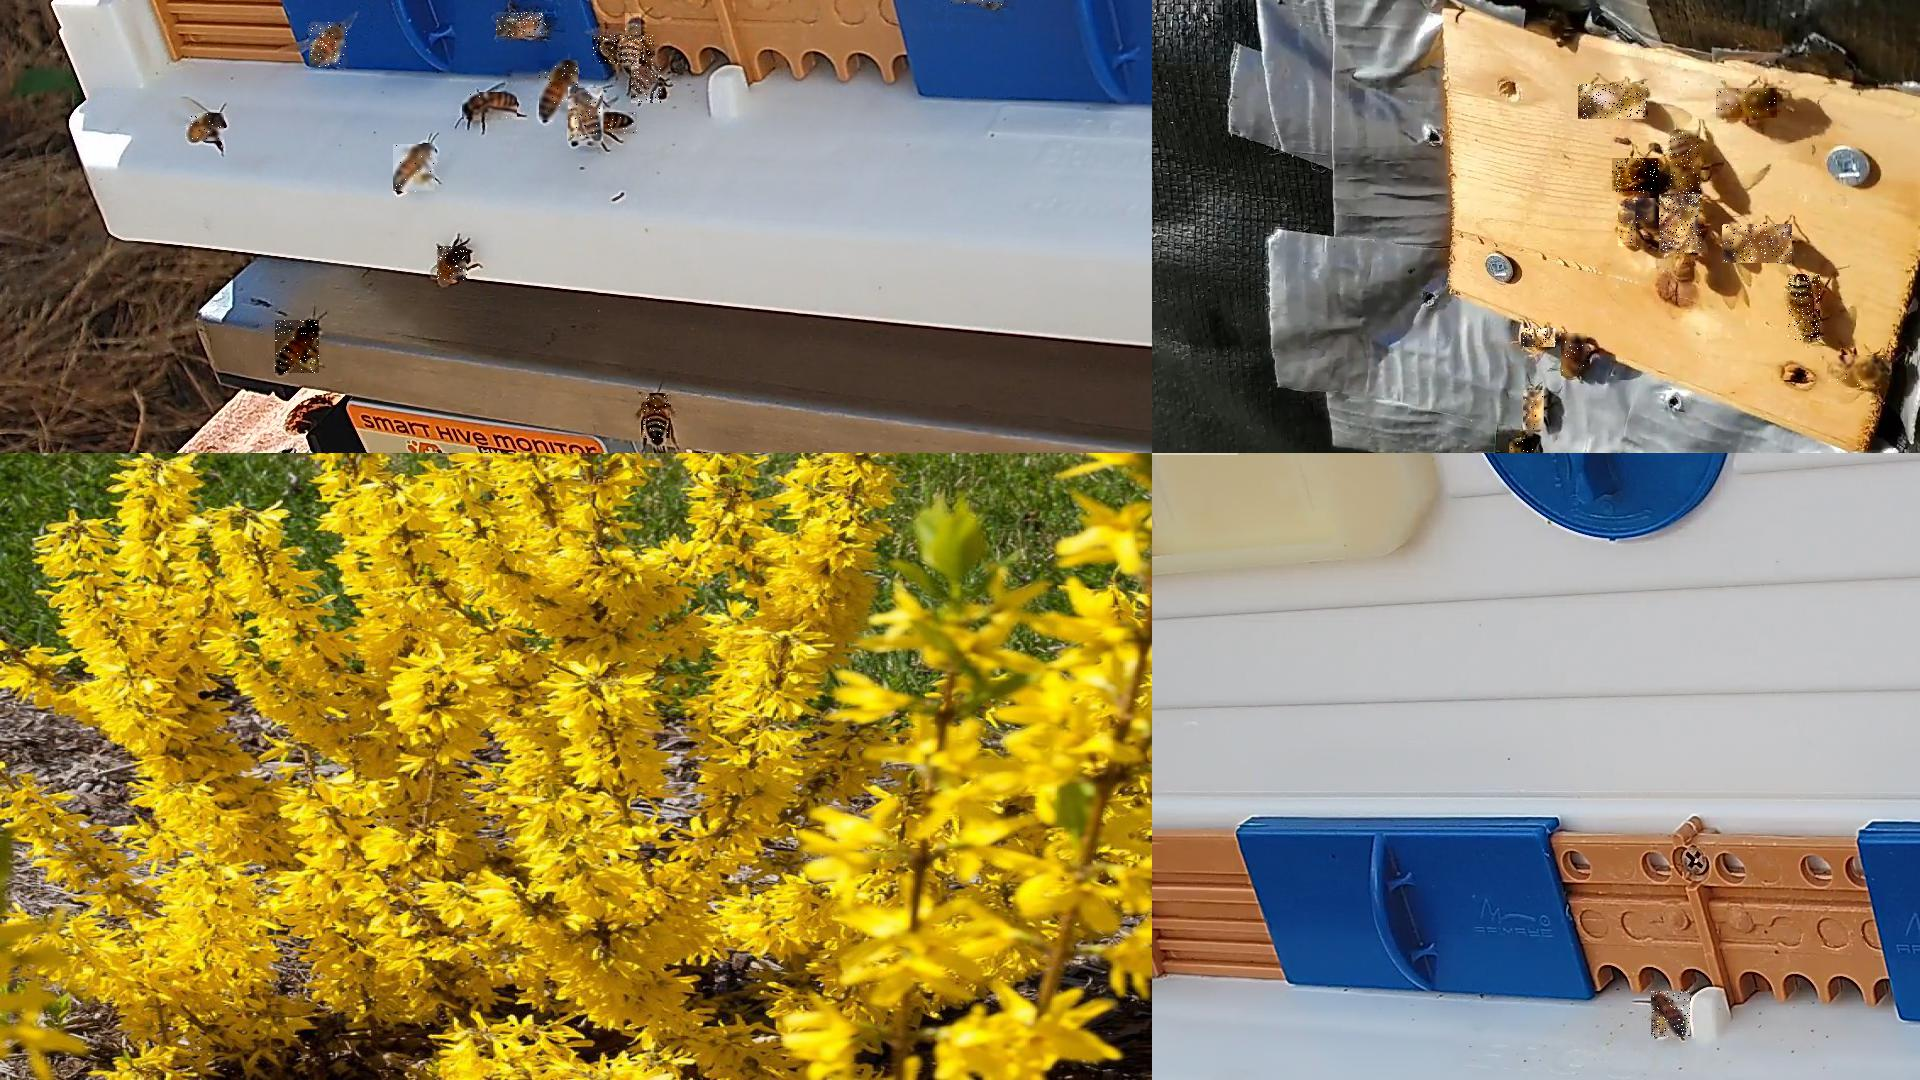bee: (1722, 224, 1793, 264), (1660, 194, 1702, 255), (1578, 84, 1648, 120), (539, 61, 579, 123), (1788, 274, 1821, 343), (1671, 131, 1701, 196), (1716, 88, 1778, 119), (1828, 356, 1890, 386), (1613, 158, 1662, 195), (593, 36, 655, 65), (641, 394, 673, 443), (463, 92, 518, 120), (497, 12, 549, 37), (582, 112, 638, 135), (1561, 334, 1590, 377), (632, 66, 663, 104), (438, 247, 469, 284), (186, 113, 225, 142), (1619, 202, 1640, 251), (625, 13, 642, 70), (1523, 390, 1545, 431), (1522, 328, 1560, 348), (1639, 199, 1659, 225), (1510, 439, 1535, 452)
pollenbee: (276, 320, 320, 375), (394, 145, 438, 194), (568, 88, 604, 146), (310, 22, 349, 69), (1651, 992, 1691, 1038)
